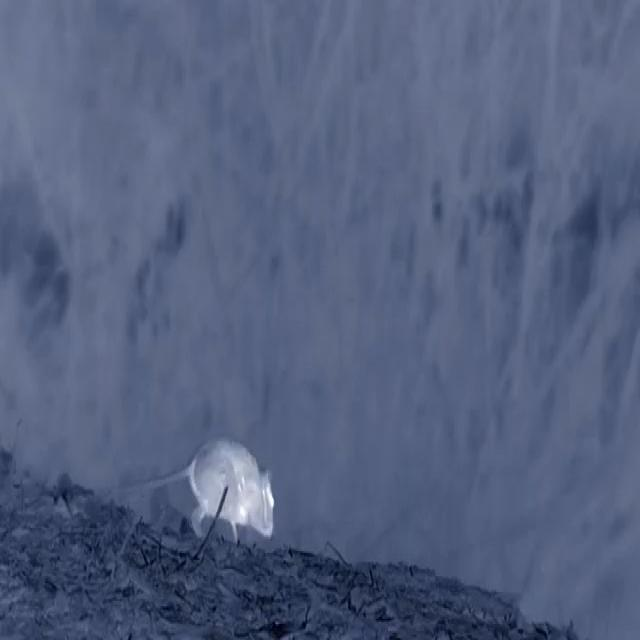animal: (85, 369, 298, 600)
